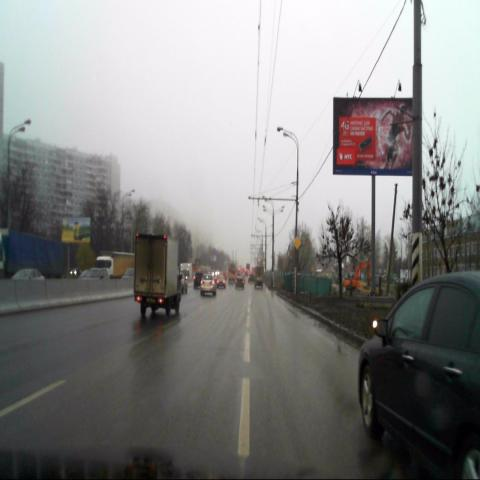2_1: (293, 235, 301, 249)
